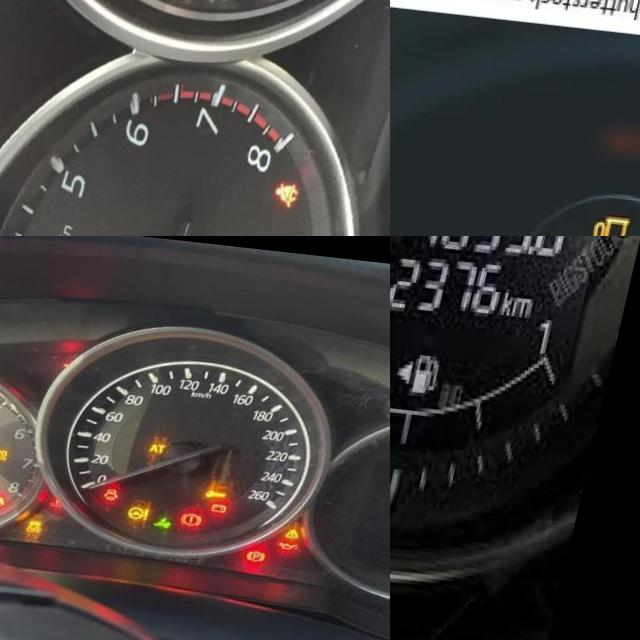Electronic Power Steering: (139, 500, 163, 517)
High Engine Coolant Temperature: (61, 494, 77, 506)
Seat Belt: (285, 168, 316, 194), (6, 494, 20, 507)
